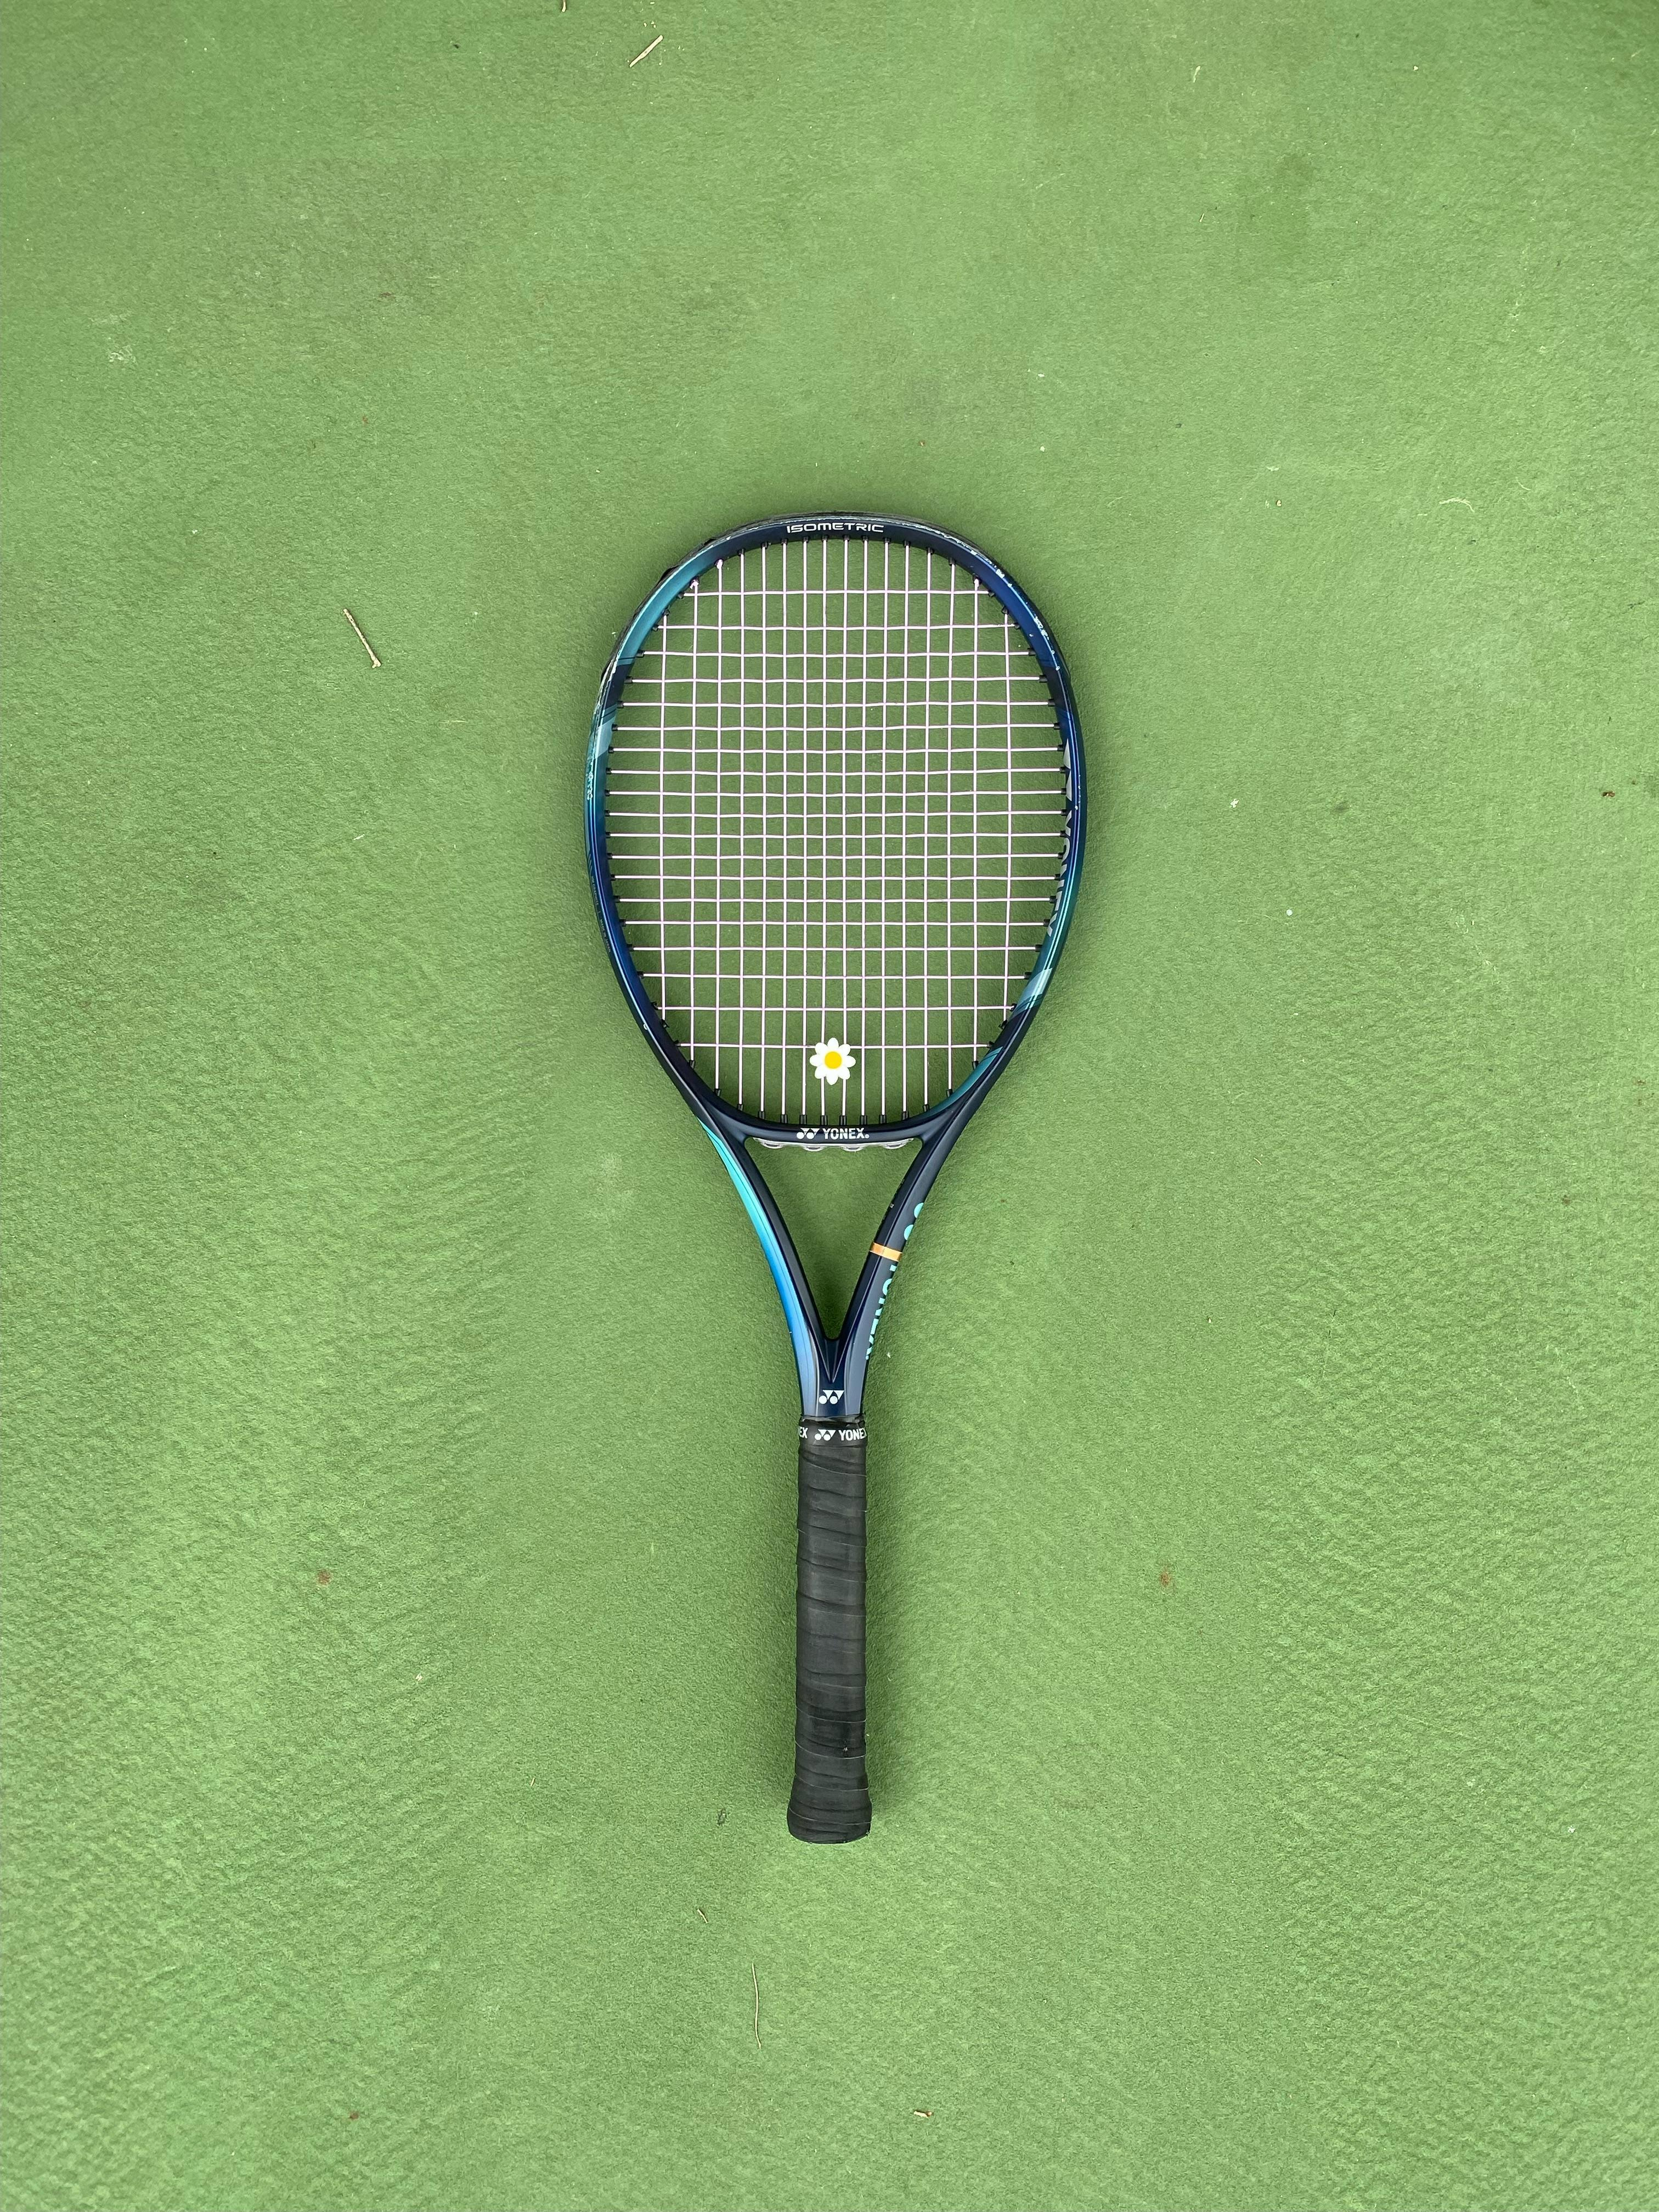Tennis-Racket: (587, 514, 1084, 1841)
